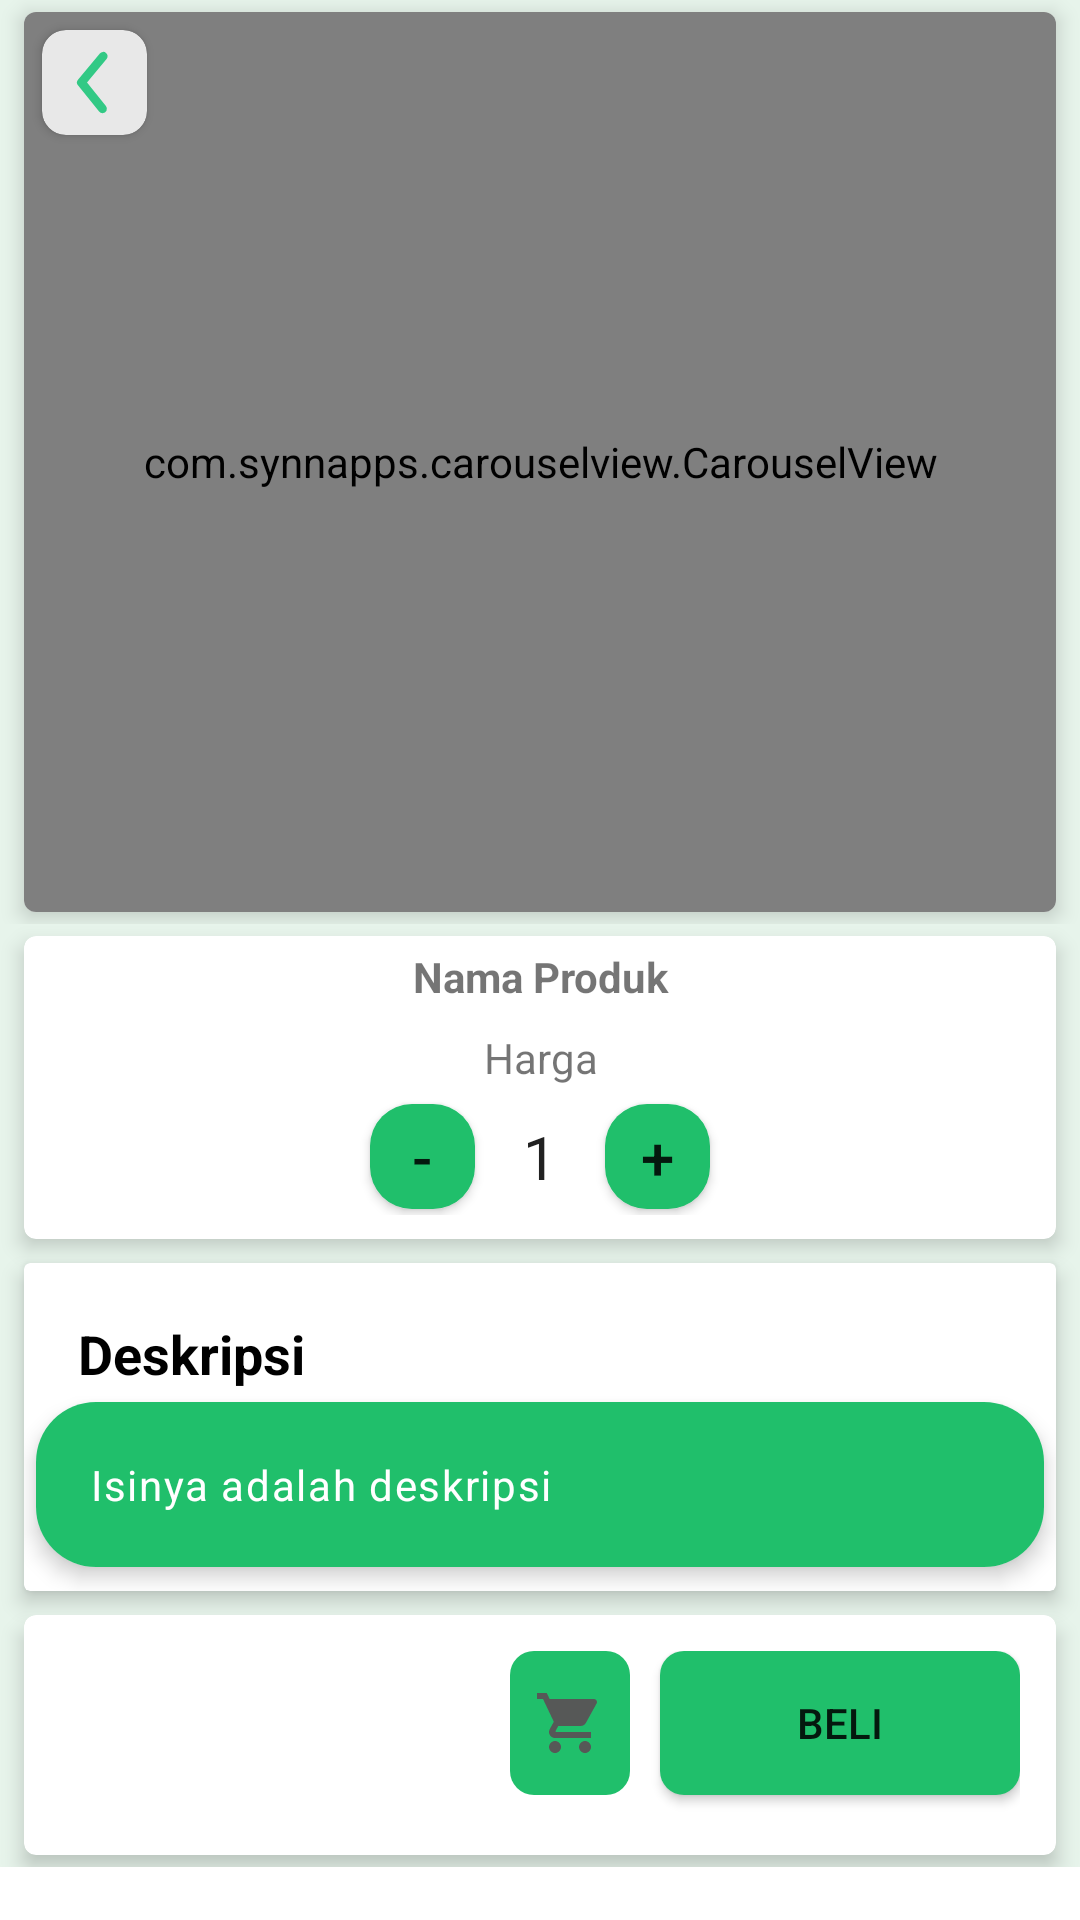

Screen size 1080*1920. Icon name, then its center in pixels as (x,y):
arrowback: (94,82)
shopping cart: (570,1723)
